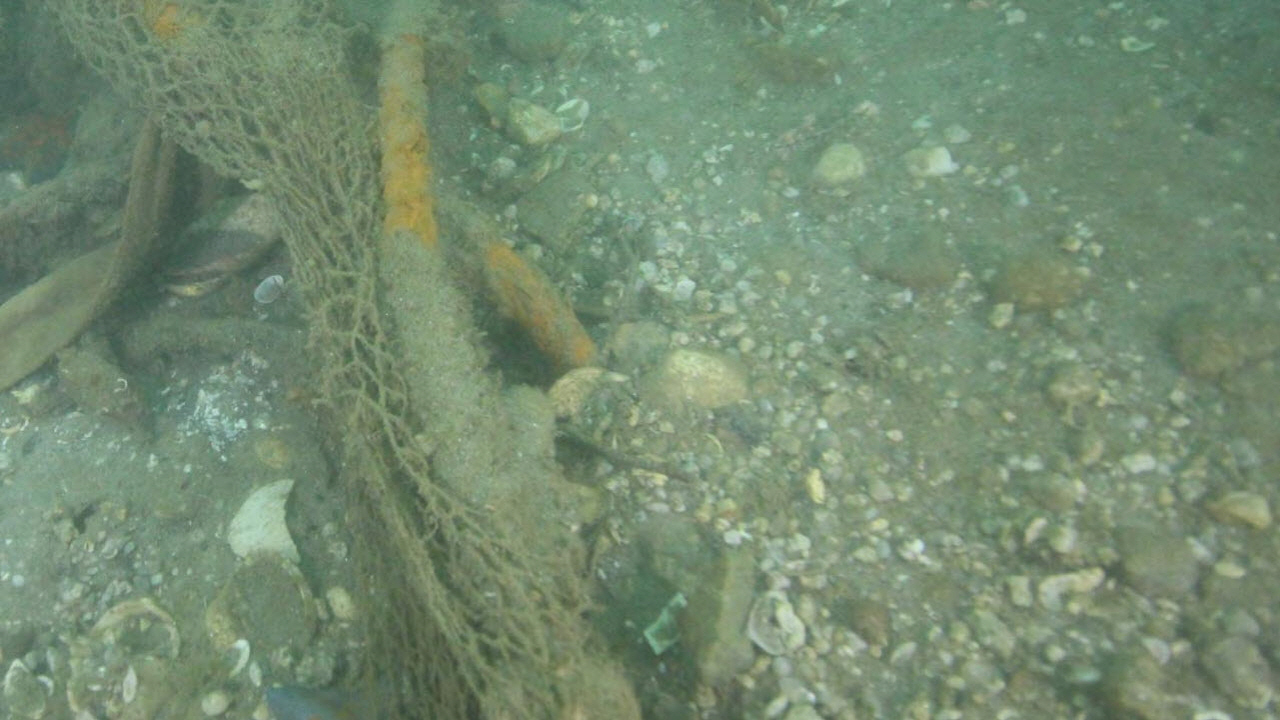fish net: (40, 0, 594, 720)
